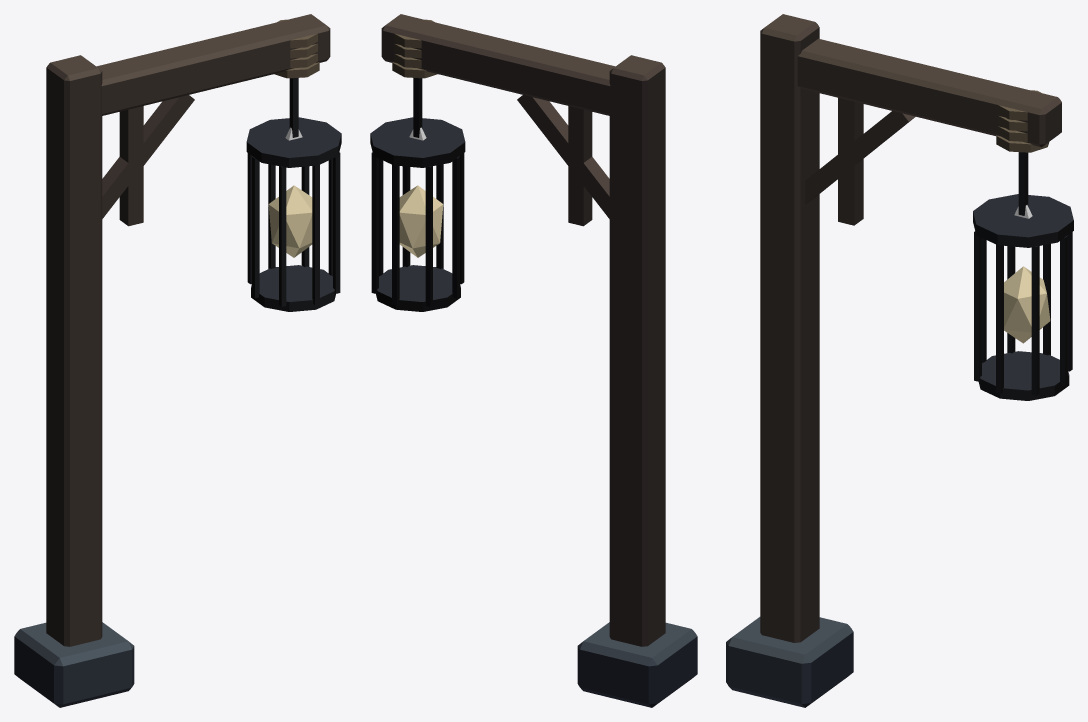
The model's file is hanging_lantern.glb.
The picture shows the model from 3 angles, left to right: view 1: azimuth 30°, elevation 25°; view 2: azimuth 150°, elevation 25°; view 3: azimuth 330°, elevation 25°; orthographic projection. The views are drawn at different scales.
Visible parts, largest first — view 1: Lantern_Post, Lantern_Swing; view 2: Lantern_Post, Lantern_Swing; view 3: Lantern_Post, Lantern_Swing.
Boxes of the visible parts, left/top/right/bottom form: Lantern_Post: left=14, top=14, right=330, bottom=707; Lantern_Swing: left=246, top=78, right=341, bottom=311; Lantern_Post: left=381, top=14, right=697, bottom=707; Lantern_Swing: left=370, top=78, right=465, bottom=311; Lantern_Post: left=726, top=14, right=1061, bottom=707; Lantern_Swing: left=973, top=152, right=1073, bottom=400.
Size of what is drawn, in the model's own units: 1.57 by 3.1 by 0.44.
